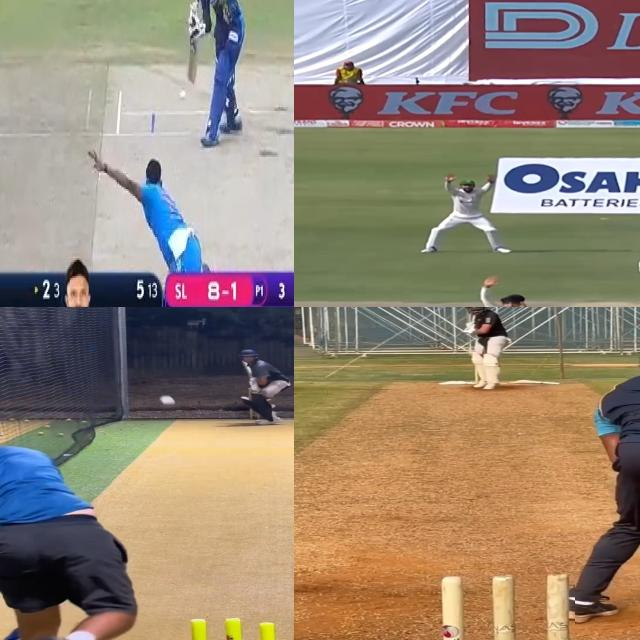Cricket ball: (178, 85, 187, 104), (159, 394, 173, 406)
Stumps: (437, 574, 575, 640)
